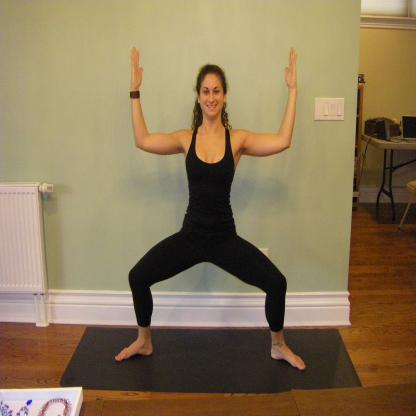godness: (110, 39, 314, 377)
